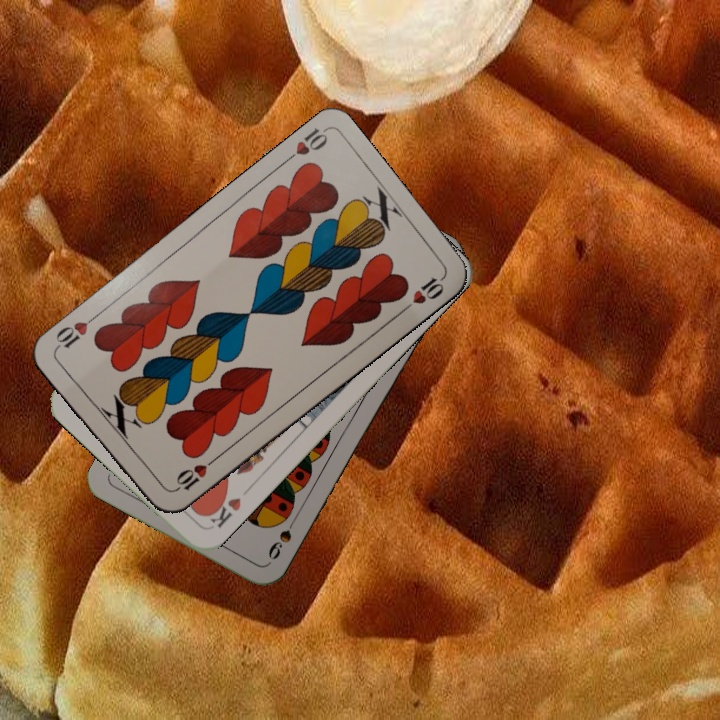H10: (278, 124, 331, 168), (168, 454, 219, 495)
HK: (201, 489, 244, 531)
S9: (263, 511, 301, 563)
